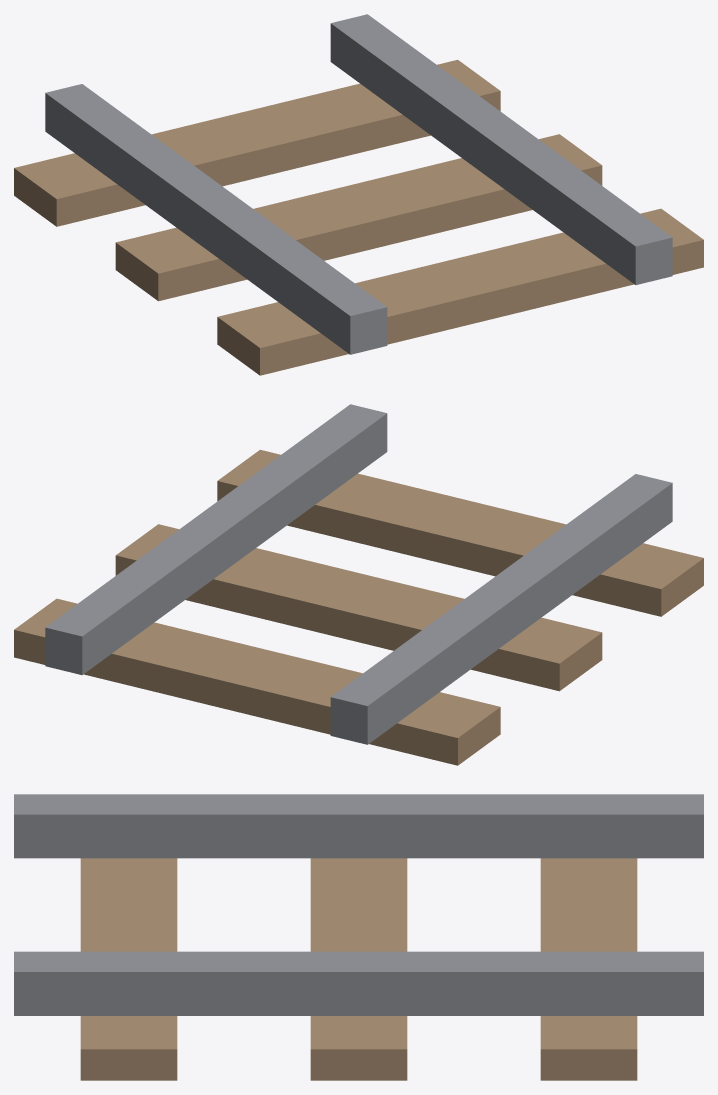
Rendered from rail-straight.glb.
The picture shows the model from 3 angles, top to bottom: view 1: azimuth 30°, elevation 25°; view 2: azimuth 150°, elevation 25°; view 3: azimuth 270°, elevation 25°; orthographic projection. The views are drawn at different scales.
Visible parts, largest first — view 1: rail-straight; view 2: rail-straight; view 3: rail-straight.
Boxes of the visible parts, x1,y1,x2,y2 form: rail-straight: (14, 14, 703, 375); rail-straight: (14, 404, 703, 765); rail-straight: (14, 794, 703, 1080).
Bounding box in the file's own units: 0.84 × 0.12 × 1.
